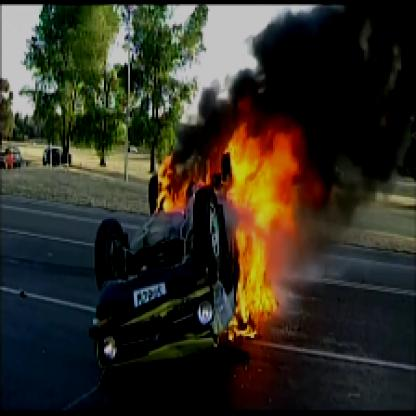Fire: (158, 89, 353, 344)
